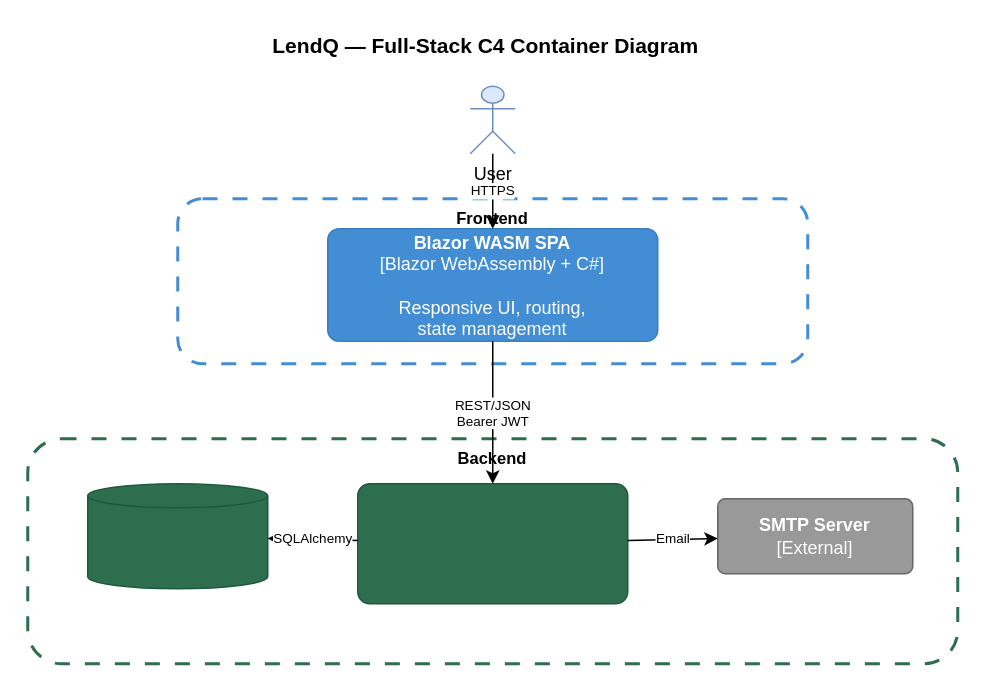
This 984x690 diagram has some shape labels left out. Here are the shapes that lost their labels. From the top down, the centre of each, then its label:
At pixel 177 535: "PostgreSQL [Database]".
At pixel 492 543: "Flask REST API [Python / Flask] Business logic, REST endpoints".
